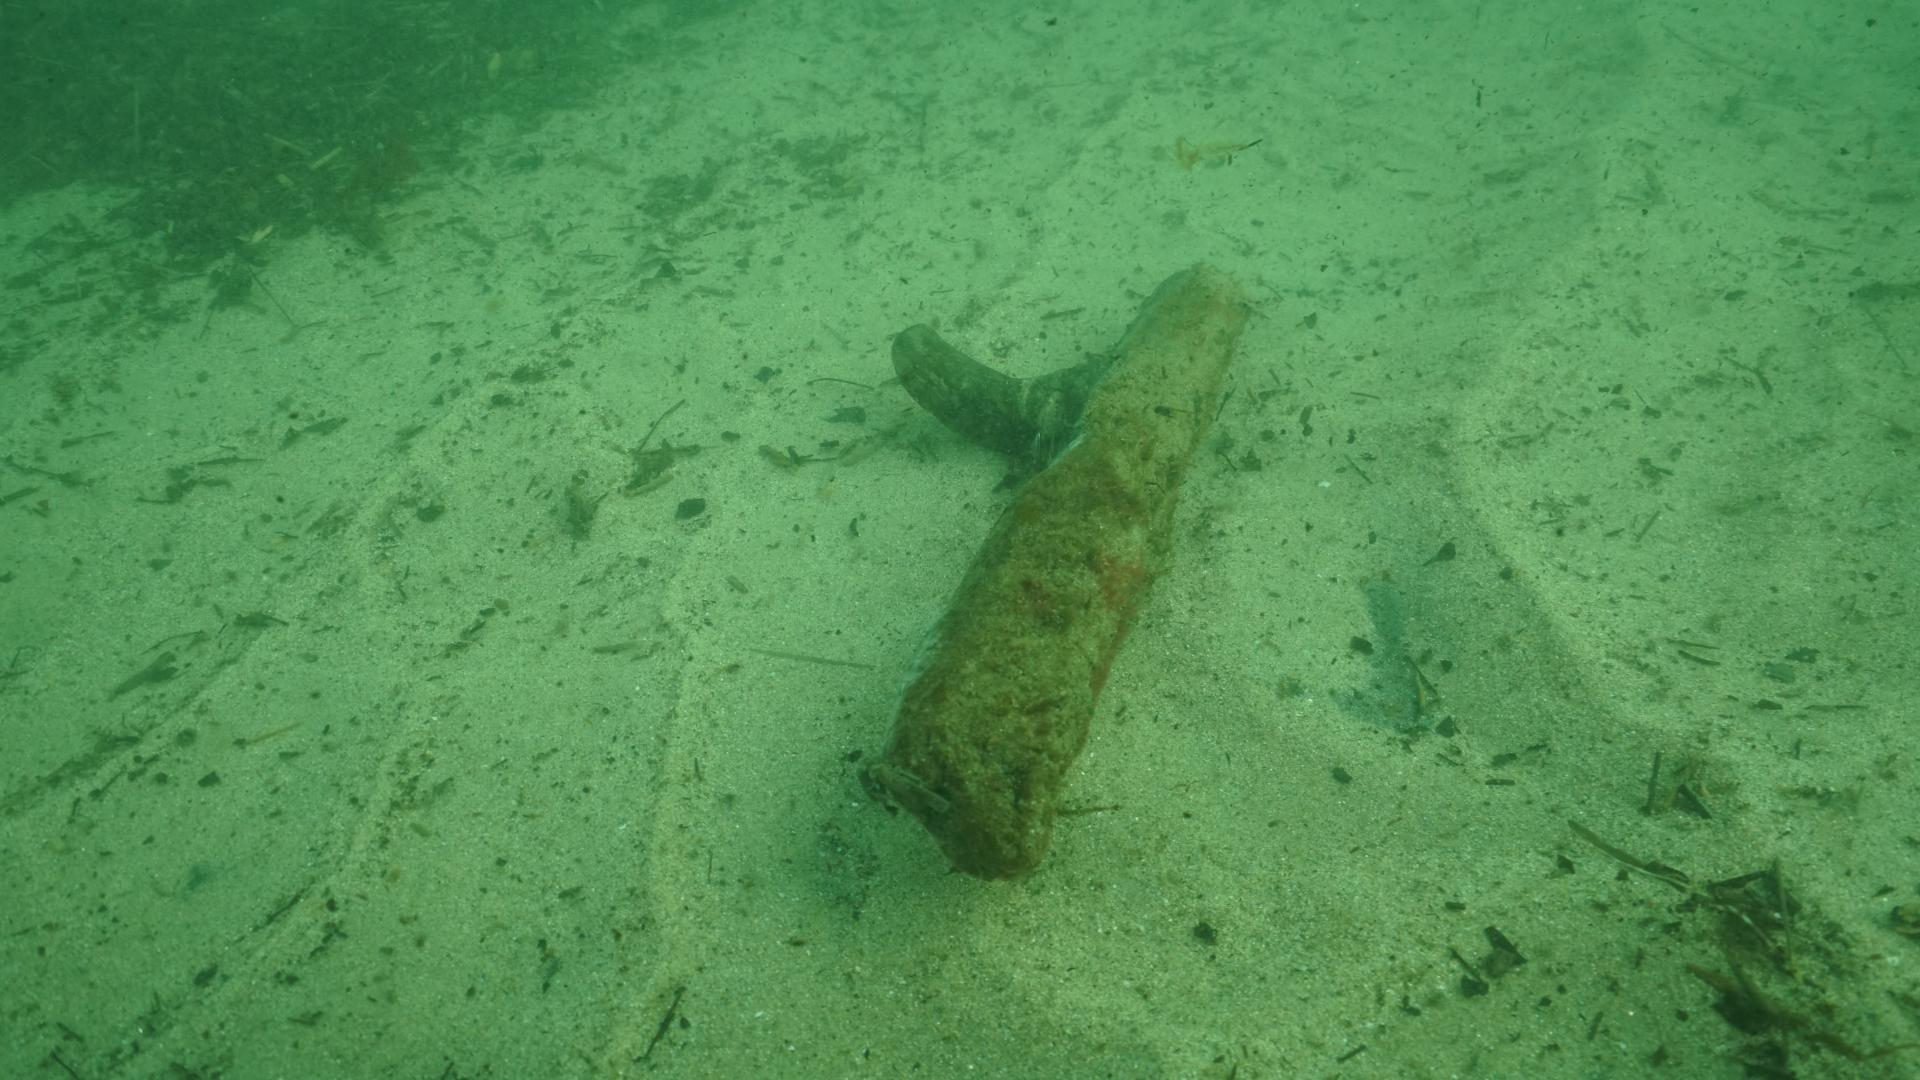wood: (855, 260, 1251, 876)
